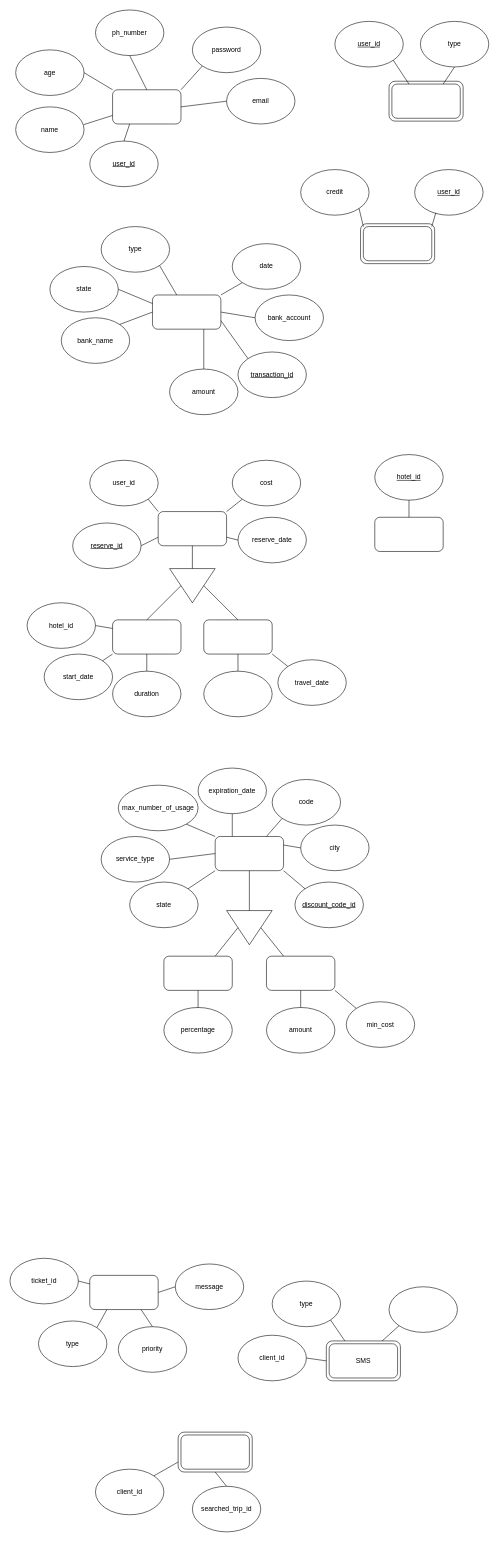
Some shapes in this 499 by 1542 pixel diagram are drawn without their labels. The shapes that lost their labels are listed below. From the top down, each one's centre as x and y in pixels, then its label:
At point 146,106: "user".
At point 425,101: "account".
At point 397,243: "wallet".
At point 186,311: "bank_transaction".
At point 192,528: "reservation".
At point 408,534: "hotel".
At point 146,636: "hotel_reservation".
At point 237,636: "transport_reservation".
At point 249,853: "discount_code".
At point 197,973: "percent_discount".
At point 300,973: "constant_discount".
At point 123,1292: "ticket".
At point 422,1309: "content".
At point 214,1451: "search_history".
